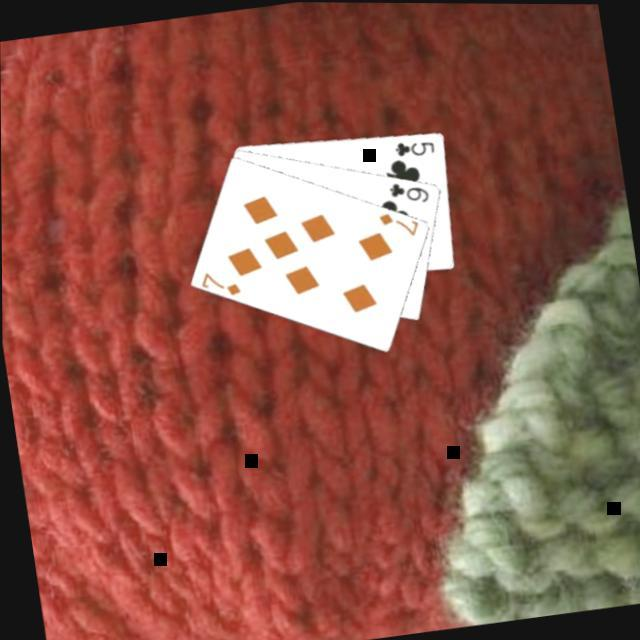5C: (394, 136, 441, 162)
6C: (387, 175, 435, 211)
7D: (376, 206, 424, 244), (199, 266, 247, 304)
